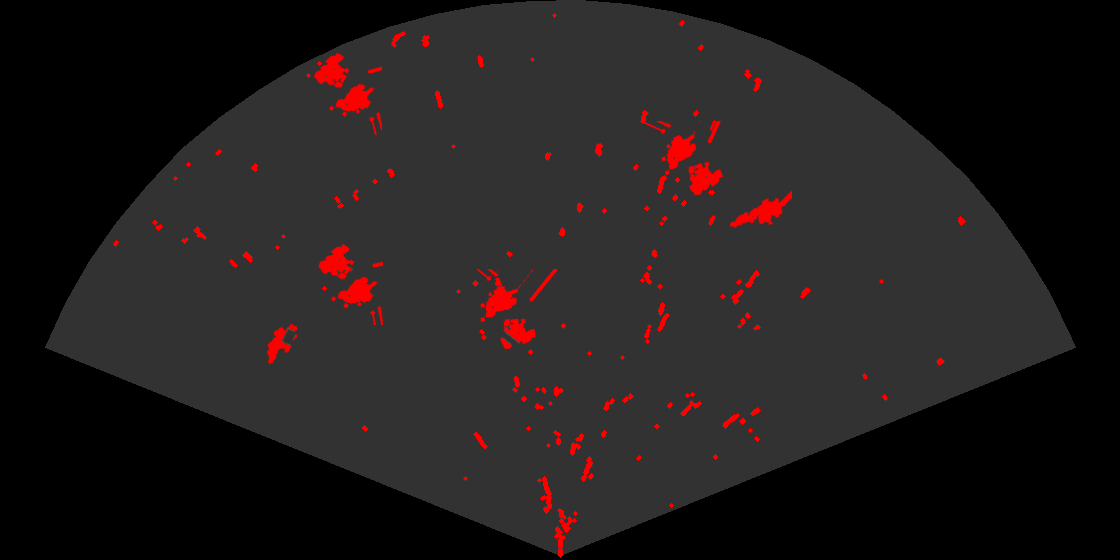AUV: (265, 322, 299, 366)
cage: (475, 269, 557, 351), (638, 121, 725, 197), (312, 51, 382, 135), (317, 242, 383, 325)
frogman: (728, 189, 792, 229)
